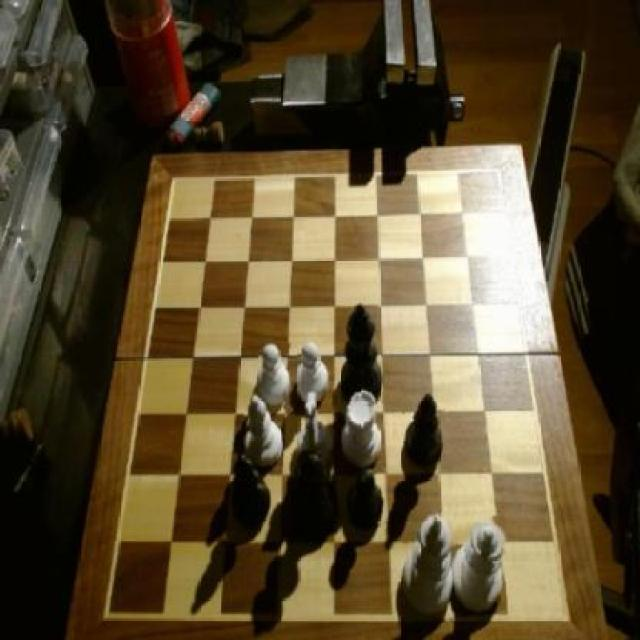bishop: (403, 394, 446, 468), (232, 451, 272, 526)
black-bishop: (340, 305, 380, 407)
black-knight: (348, 468, 388, 528)
black-pawn: (289, 449, 338, 537)
black-rook: (244, 391, 284, 467)
white-bishop: (403, 514, 454, 625)
white-king: (297, 386, 337, 470)
white-knight: (257, 342, 294, 409), (298, 345, 331, 407)
white-pawn: (452, 517, 506, 617)
white-queen: (342, 391, 386, 468)
